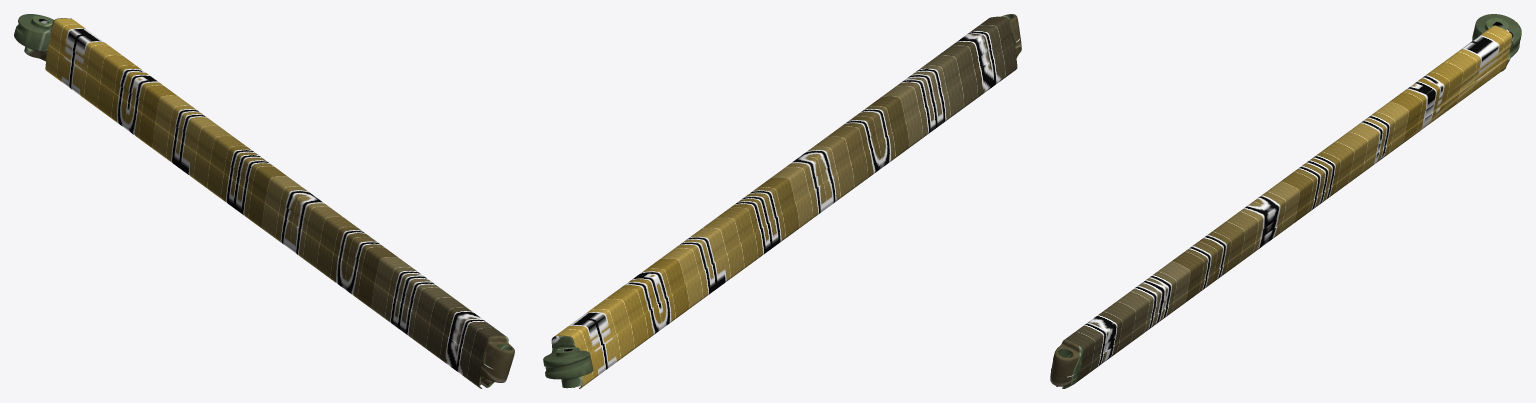
File: Test_Shapekeys_Multimat_Texture.glb
3 renders of one model, left to right at view 1: azimuth 30°, elevation 25°; view 2: azimuth 150°, elevation 25°; view 3: azimuth 330°, elevation 25°, orthographic.
Parts seen in each view (by area): view 1: ST_BAN_BRAS; view 2: ST_BAN_BRAS; view 3: ST_BAN_BRAS.
Part boxes in pixels (x1,y1,x2,y2): ST_BAN_BRAS: (14, 14, 514, 388); ST_BAN_BRAS: (543, 14, 1021, 388); ST_BAN_BRAS: (1050, 14, 1521, 388).
Bounding box in the file's own units: 0.0633 × 0.0641 × 1.08.
Materials: 3 (3 with a texture image).
